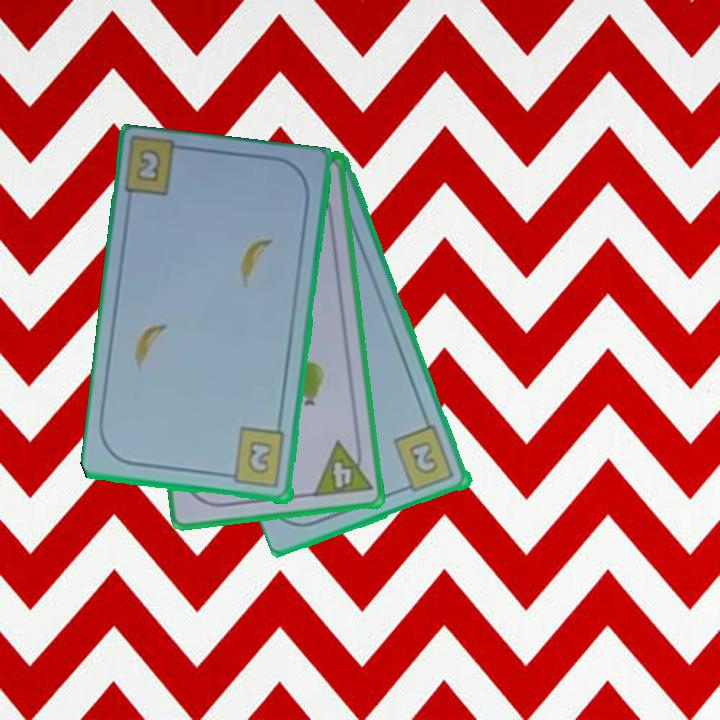2b: (390, 422, 458, 495), (221, 425, 288, 491), (133, 145, 164, 186)
4p: (310, 436, 375, 500)
